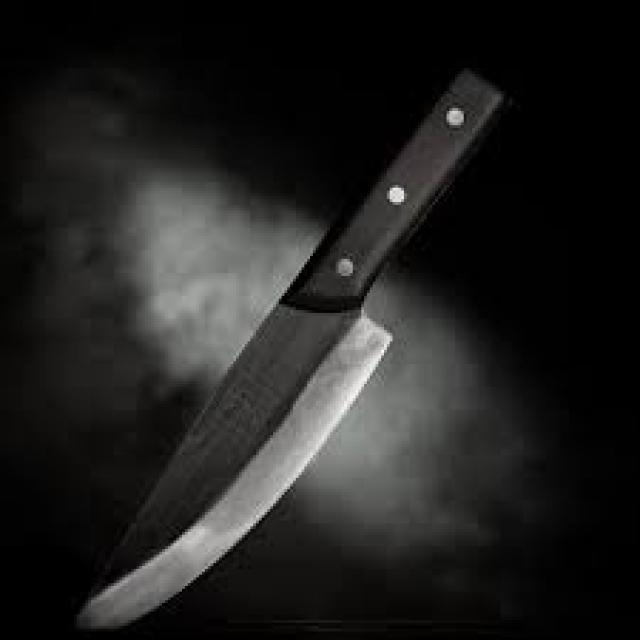Knife: (71, 63, 506, 632)
